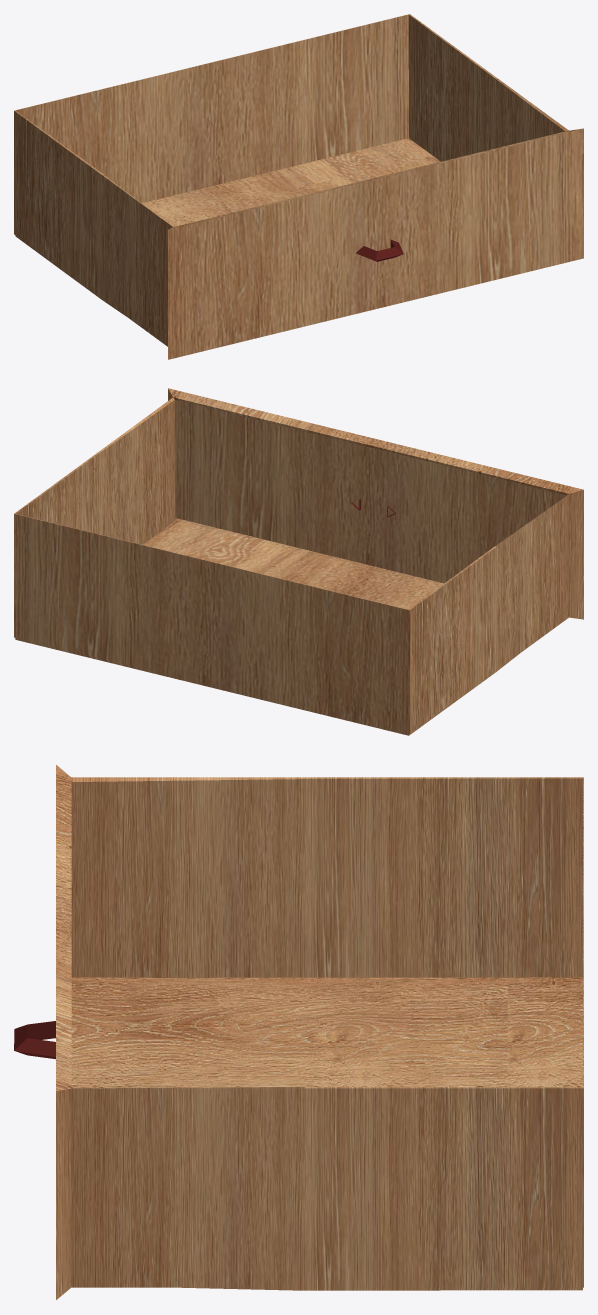
The model's file is drawer.glb.
3 views of the same model, one above another, from view 1: azimuth 30°, elevation 25°; view 2: azimuth 150°, elevation 25°; view 3: azimuth 270°, elevation 25° (orthographic). The views are drawn at different scales.
Parts seen in each view (by area): view 1: drawer; view 2: drawer; view 3: drawer.
Boxes of the visible parts, left/top/right/bottom form: drawer: left=14, top=14, right=583, bottom=359; drawer: left=14, top=388, right=583, bottom=735; drawer: left=14, top=765, right=583, bottom=1299.
Bounding box in the file's own units: 0.9471 × 0.2827 × 0.6979.
Materials: 2 (1 with a texture image).
